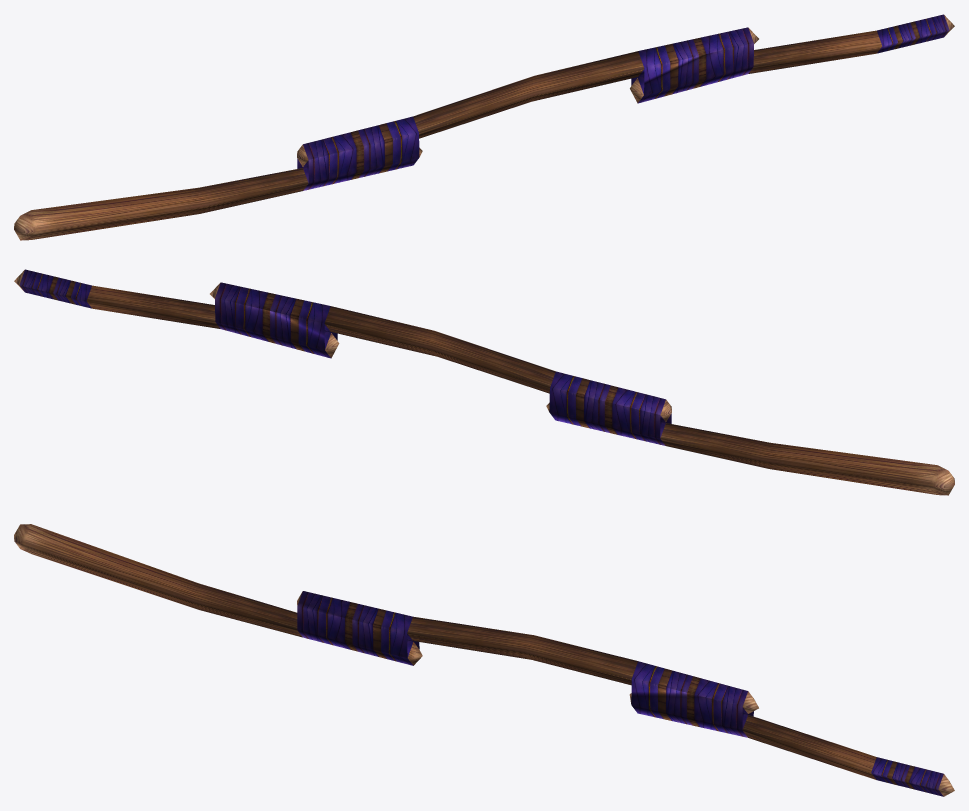
The model's file is orcstaff01.obj.
3 renders of one model, top to bottom at view 1: azimuth 30°, elevation 25°; view 2: azimuth 150°, elevation 25°; view 3: azimuth 330°, elevation 25°, orthographic.
Visible parts, largest first — view 1: orcstaff01; view 2: orcstaff01; view 3: orcstaff01.
Boxes of the visible parts, left/top/right/bottom form: orcstaff01: left=14, top=14, right=954, bottom=240; orcstaff01: left=14, top=269, right=954, bottom=495; orcstaff01: left=14, top=524, right=954, bottom=796.
Size of the model in its own units: 2.38 by 0.1489 by 0.0639.
1 material, 1 textured.
